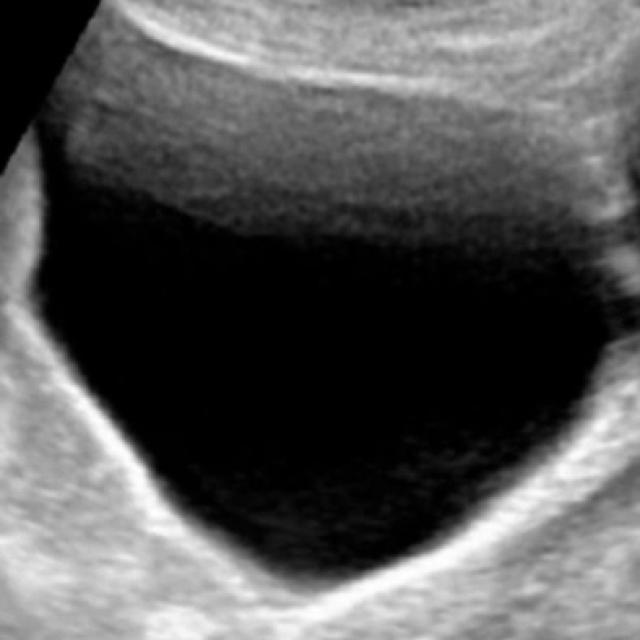bladder: (11, 3, 635, 610)
